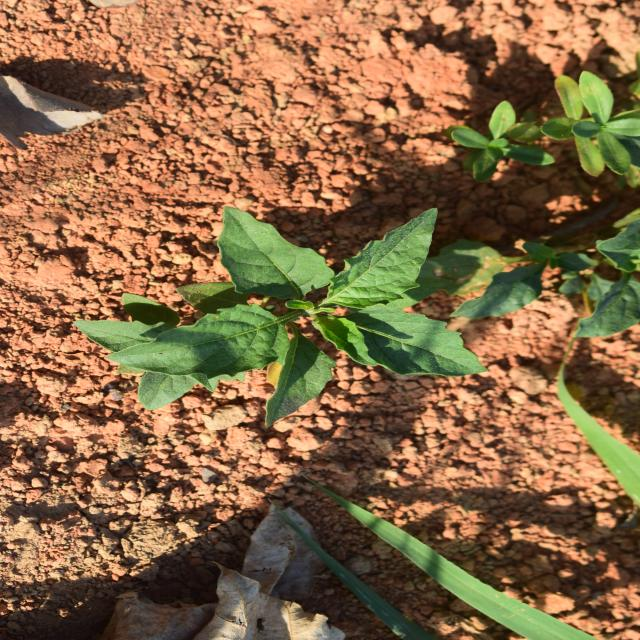Black_nightshade: (205, 164, 408, 499)
